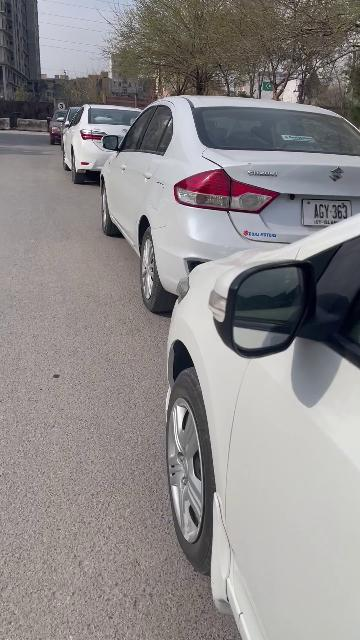plate: (302, 199, 352, 226)
